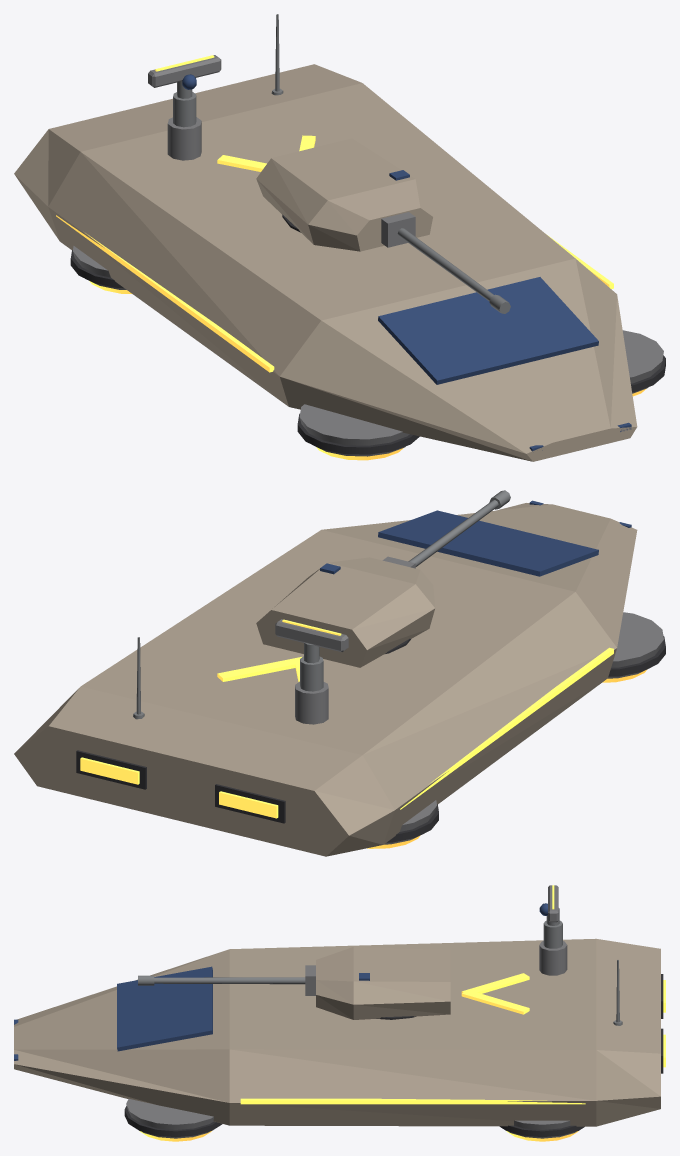
File: recon_red.glb
3 views of the same model, one above another, from view 1: azimuth 30°, elevation 25°; view 2: azimuth 150°, elevation 25°; view 3: azimuth 270°, elevation 25° (orthographic). The views are drawn at different scales.
Visible parts, largest first — view 1: body, turret, gun; view 2: body, turret, gun; view 3: body, turret, gun.
Part boxes in pixels (bbox=[...]): body: bbox=[14, 14, 665, 461]; turret: bbox=[256, 138, 435, 251]; gun: bbox=[381, 212, 510, 313]; body: bbox=[14, 500, 665, 856]; turret: bbox=[256, 557, 435, 667]; gun: bbox=[382, 490, 510, 568]; body: bbox=[14, 885, 665, 1141]; turret: bbox=[316, 946, 450, 1019]; gun: bbox=[138, 965, 315, 995].
Bounding box in the file's own units: 3.05 × 1.59 × 6.05.
